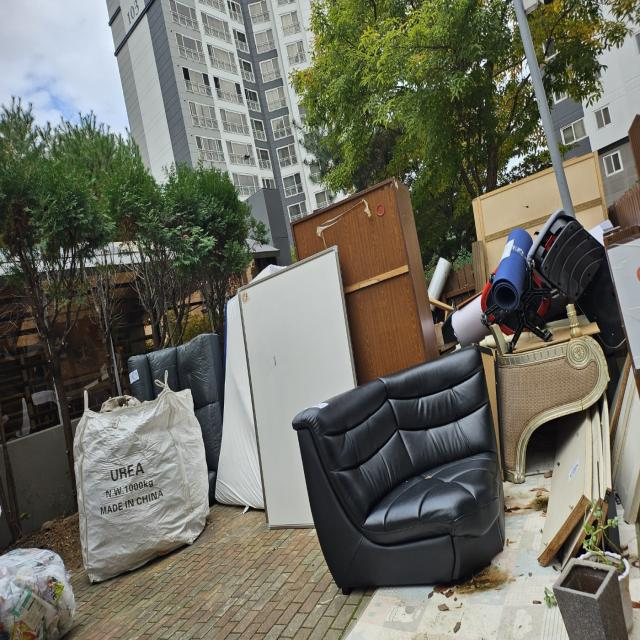General Waste: (0, 533, 82, 640)
Large Waste Items: (287, 351, 518, 592), (270, 165, 443, 396), (472, 156, 615, 276), (208, 273, 274, 526), (501, 334, 609, 483), (543, 427, 622, 567), (129, 335, 235, 432), (443, 287, 510, 354), (488, 220, 530, 321)
PP bag: (64, 380, 222, 575)
